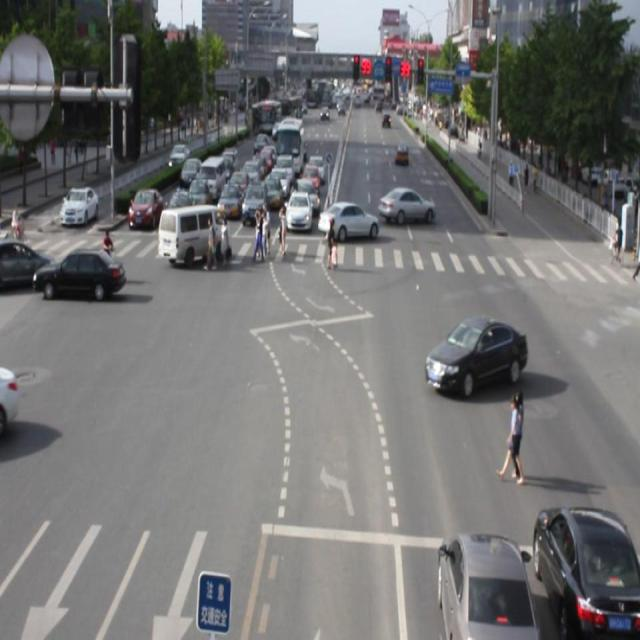car: (523, 495, 640, 640), (429, 524, 530, 640), (423, 313, 528, 393)
truck: (159, 201, 231, 261)
